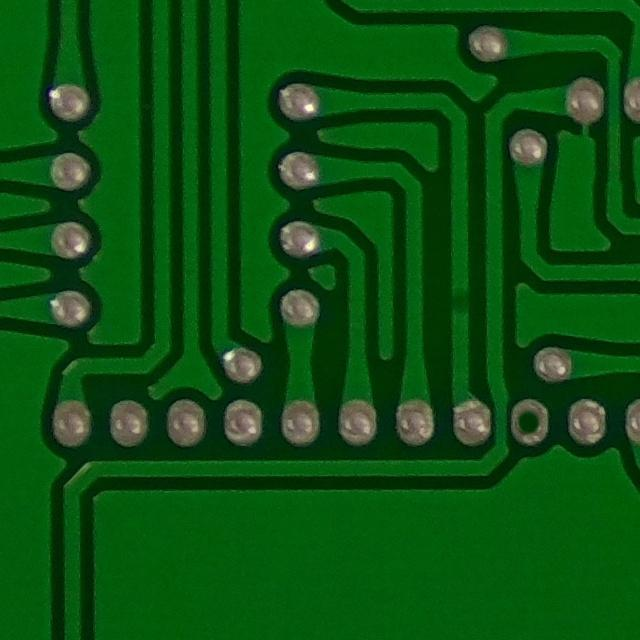missing_hole: (503, 391, 558, 452)
